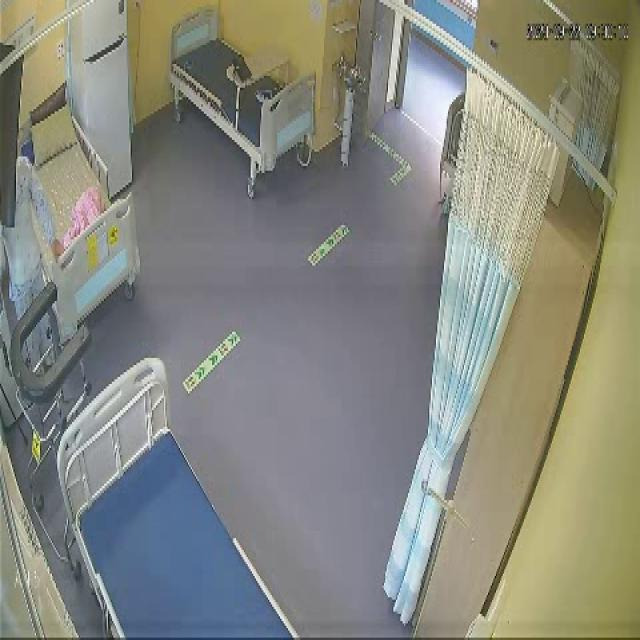bed: (54, 355, 294, 640), (14, 101, 140, 326), (171, 8, 317, 171)
patient: (0, 156, 62, 377)
